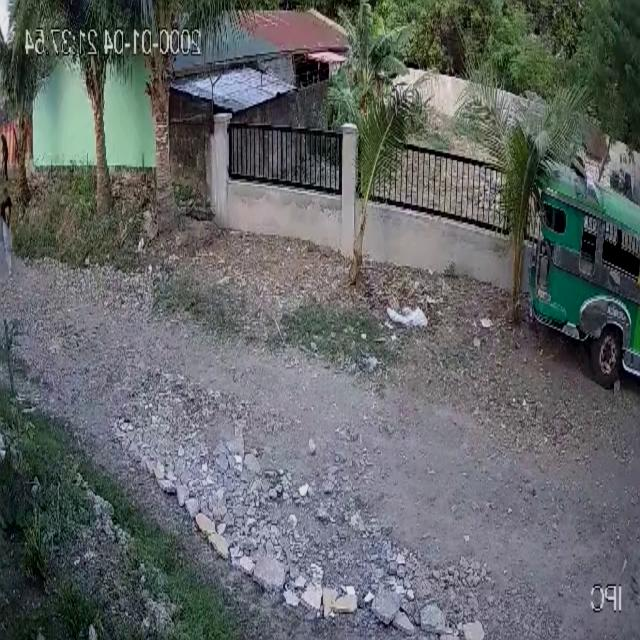walking: (0, 185, 17, 278)
